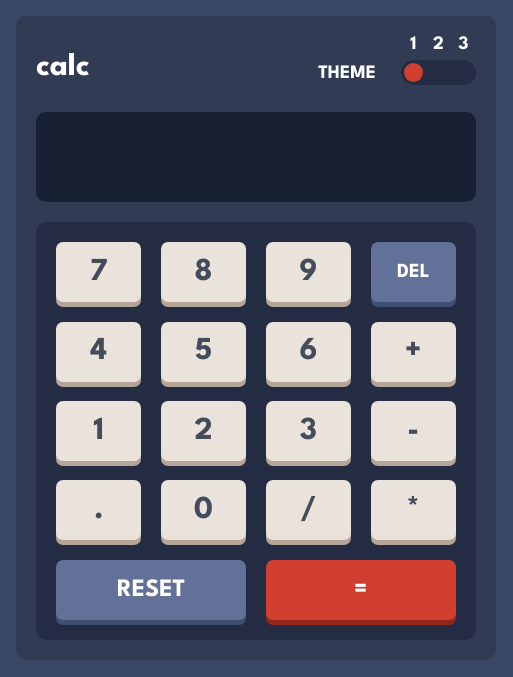
Test: Basic operations › Should render an operand if first value is positive
The width and height of the screenshot is (513, 677).
Click the button "7". click: {"x": 99, "y": 272}
box: [56,242,142,302]
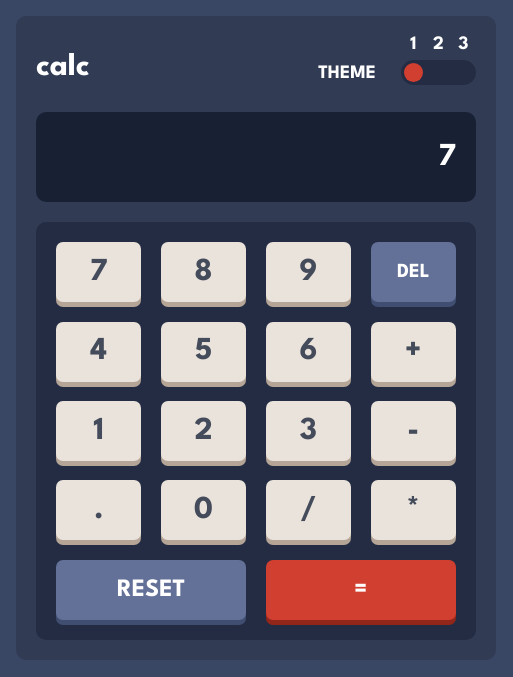
Click the button "+". click: {"x": 413, "y": 352}
box: [370,322,456,382]
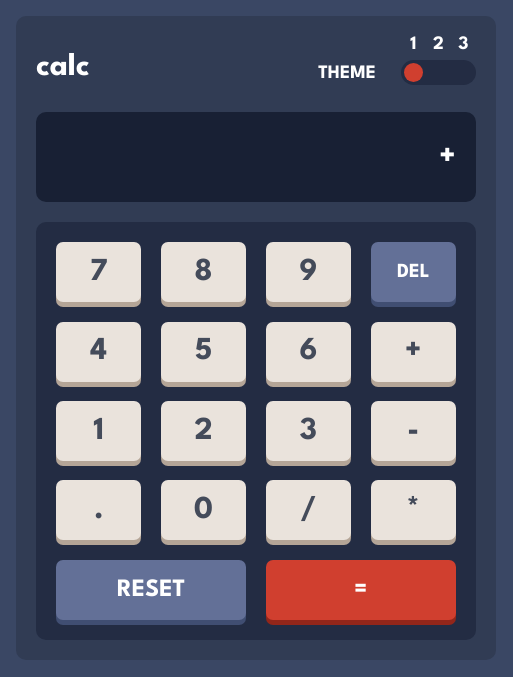
Expected: the field holds "+", [36,112,476,202]
